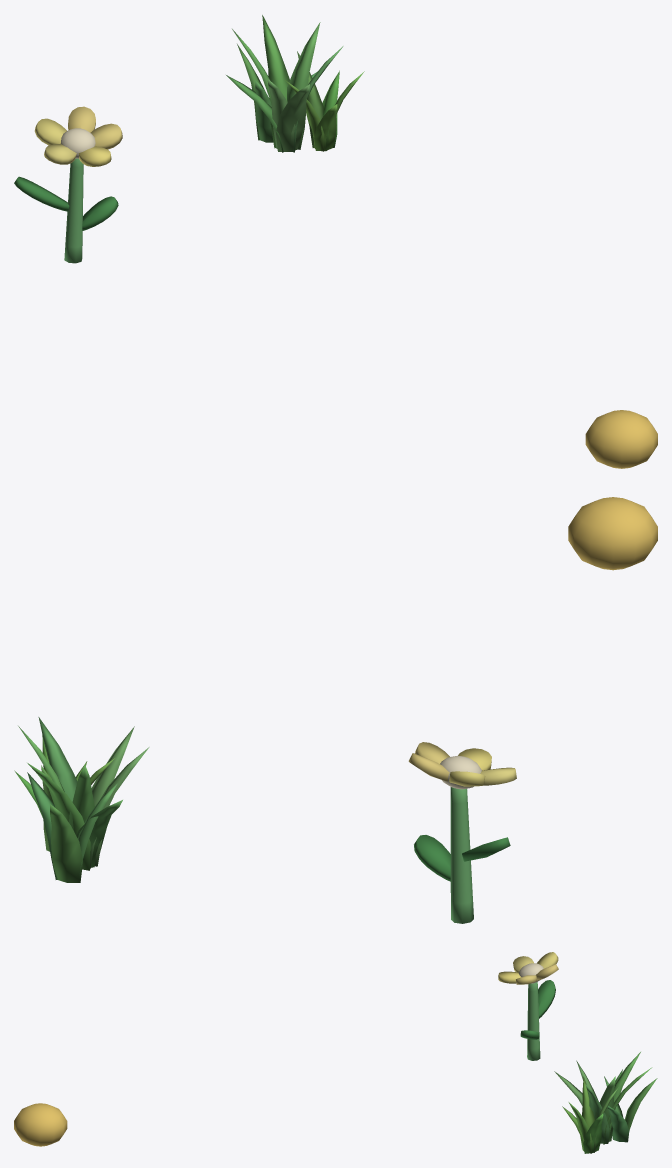
Rendered from W4_FloraRing_12_11.fbx.
3 views of the same model, one above another, from view 1: azimuth 30°, elevation 25°; view 2: azimuth 150°, elevation 25°; view 3: azimuth 270°, elevation 25° (orthographic). The views are drawn at different scales.
Visible parts, largest first — view 1: W4_FloraRing_12_11; view 2: W4_FloraRing_12_11; view 3: W4_FloraRing_12_11.
Part boxes in pixels (box(x1,y1,x2,y2)): W4_FloraRing_12_11: box(14, 15, 657, 468); W4_FloraRing_12_11: box(14, 497, 657, 923); W4_FloraRing_12_11: box(14, 952, 657, 1153).
Size of the model in its own units: 0.3829 by 0.15 by 0.7998.
